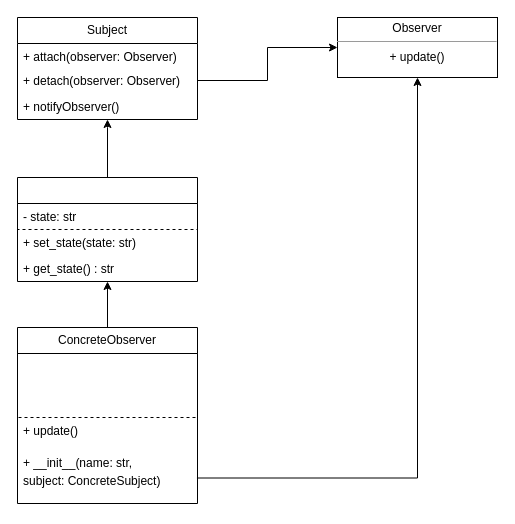
Image size: 515x524. Some labels were removed from this diagram. The box of each missing label's shape, as (x1, y1, x2, y2) in pixels:
- name: str - subject: ConcreteSubject: (16, 352, 198, 418)
ConcreteSubject: (16, 176, 198, 282)
